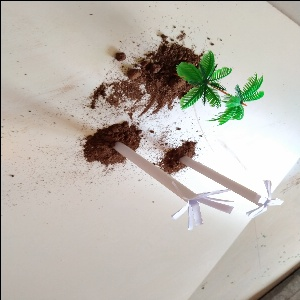plant: (172, 52, 261, 127)
weed: (105, 137, 228, 232), (170, 142, 286, 218)
